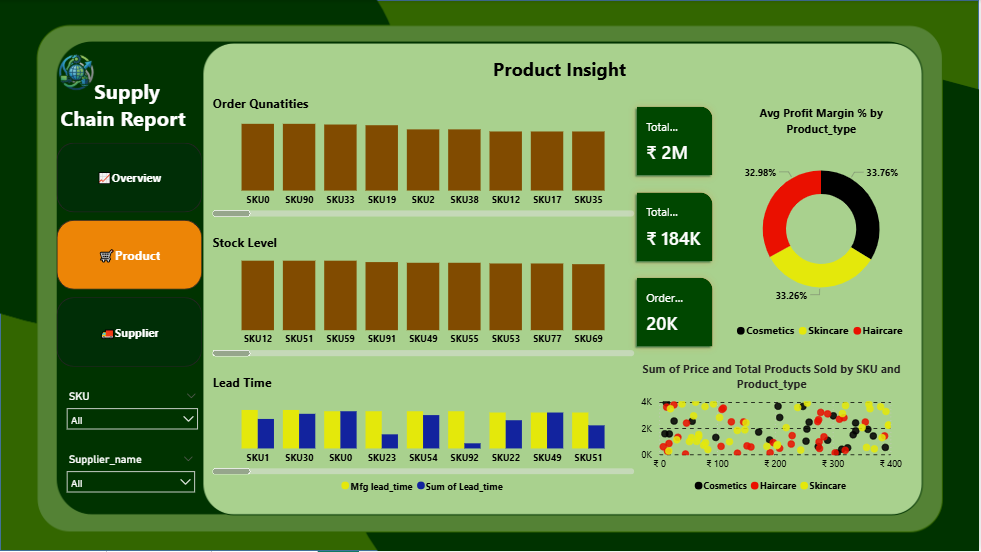

The dashboard page shown, as its layout file describes it:
{"tool":"powerbi","page":{"name":"🛒Product","canvas":[1280,720],"ordinal":1},"visuals":[{"type":"columnChart","title":"Order Qunatities ","fields":{"Y":["Measures Table.Order Qunatity"],"Category":["supply_chain.SKU"]},"box":[272.8,123.6,561.3,164.8],"z":0},{"type":"pageNavigator","box":[73.6,187.1,190.4,294.4],"z":0,"group":"g1"},{"type":"columnChart","title":"Stock Level","fields":{"Category":["supply_chain.SKU"],"Y":["Sum(supply_chain.Stock_levels)"]},"box":[272.8,306.1,561.3,164.8],"z":1000},{"type":"slicer","fields":{"Values":["supply_chain.SKU"]},"box":[77.4,506.3,192.3,64.8],"z":1000,"group":"g1"},{"type":"clusteredColumnChart","title":"Lead Time","fields":{"Category":["supply_chain.SKU"],"Y":["Sum(supply_chain.Mfg lead_time)","Sum(supply_chain.Lead_time)"]},"box":[272.8,488.7,561.3,164.8],"z":2000},{"type":"slicer","fields":{"Values":["supply_chain.Supplier_name"]},"box":[77.4,588.7,188.4,64.8],"z":2000,"group":"g1"},{"type":"textbox","box":[73.6,96.1,186.4,109.9],"z":3000,"group":"g1"},{"type":"cardVisual","fields":{"Data":["Measures Table.Total Revenue","Measures Table.Total Products Sold","Measures Table.Order Qunatity"]},"box":[816.4,123.6,131.5,347.4],"z":3000},{"type":"image","box":[27.4,19.6,145.2,151.1],"z":4000,"group":"g1"},{"type":"donutChart","fields":{"Category":["supply_chain.Product_type"],"Y":["Measures Table.Avg Profit Margin %"]},"box":[947.9,137.4,253.2,314],"z":4000},{"type":"scatterChart","fields":{"Category":["supply_chain.SKU"],"X":["Sum(supply_chain.Price)"],"Y":["Measures Table.Total Products Sold"],"Series":["supply_chain.Product_type"]},"box":[834.1,471,351.3,182.5],"z":5000},{"type":"textbox","box":[639.8,68.7,213.9,54.9],"z":6000},{"type":"group","id":"g1","title":"Group 1","box":[27.4,19.6,242.3,633.9],"z":6001}]}

Visuals, with their boxes in screenshot pixels (x1, y1, x2, y2), scaled from the page's 1280x720 canvas onto the 981x552 screenshot:
"Order Qunatities " columnChart: (left=209, top=95, right=639, bottom=221)
pageNavigator: (left=56, top=143, right=202, bottom=369)
"Stock Level" columnChart: (left=209, top=235, right=639, bottom=361)
slicer - supply_chain.SKU: (left=59, top=388, right=207, bottom=438)
"Lead Time" clusteredColumnChart: (left=209, top=375, right=639, bottom=501)
slicer - supply_chain.Supplier_name: (left=59, top=451, right=204, bottom=501)
textbox: (left=56, top=74, right=199, bottom=158)
cardVisual - Measures Table.Total Revenue x Measures Table.Total Products Sold: (left=626, top=95, right=726, bottom=361)
image: (left=21, top=15, right=132, bottom=131)
donutChart - supply_chain.Product_type x Measures Table.Avg Profit Margin %: (left=726, top=105, right=921, bottom=346)
scatterChart - supply_chain.SKU x Sum(supply_chain.Price): (left=639, top=361, right=908, bottom=501)
textbox: (left=490, top=53, right=654, bottom=95)
"Group 1" group: (left=21, top=15, right=207, bottom=501)
